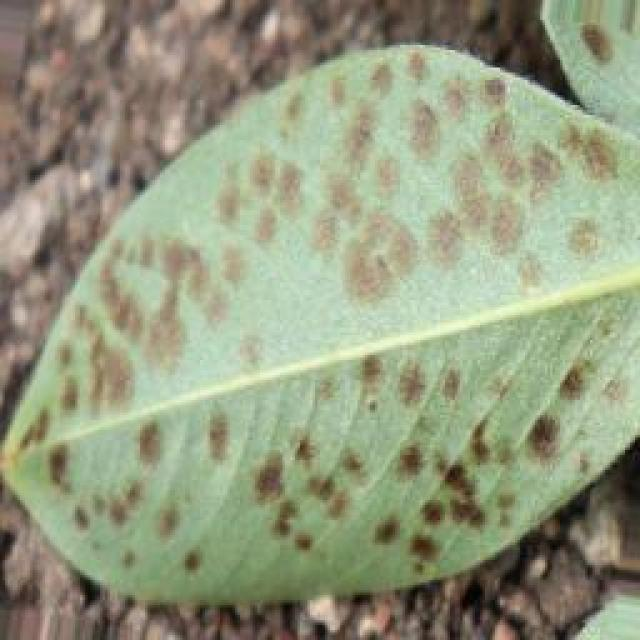Whitefly: (1, 28, 640, 568)
